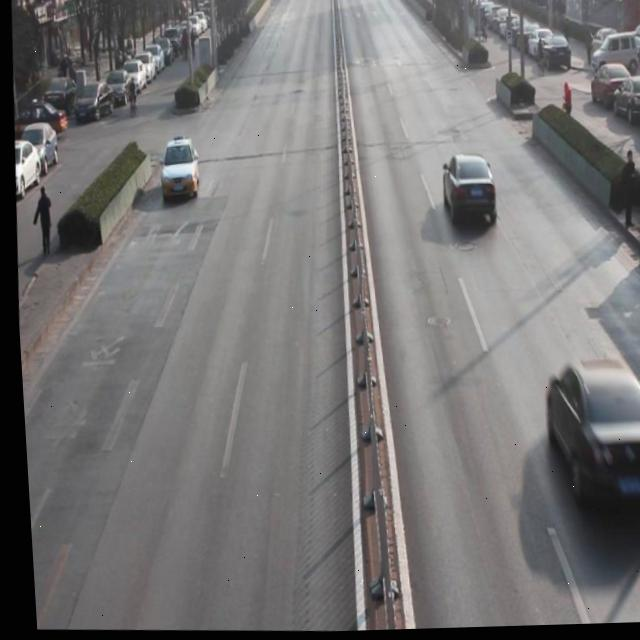car: (533, 363, 640, 516), (436, 153, 498, 229), (155, 133, 201, 202)
